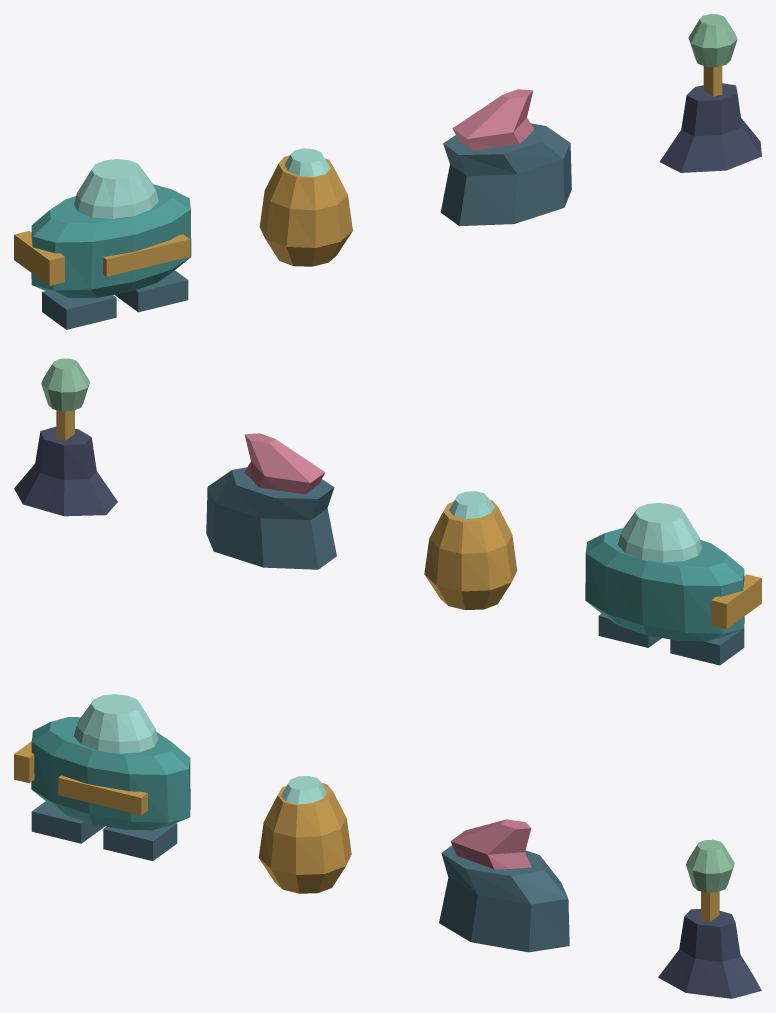
The model's file is fon-freminet-dive-model.obj.
3 renders of one model, top to bottom at view 1: azimuth 30°, elevation 25°; view 2: azimuth 150°, elevation 25°; view 3: azimuth 330°, elevation 25°, orthographic.
Parts seen in each view (by area): view 1: ShallowsToy; view 2: ShallowsToy; view 3: ShallowsToy.
Boxes of the visible parts, box(x1,y1,x2,y2) form: ShallowsToy: box(14, 14, 761, 329); ShallowsToy: box(14, 358, 761, 665); ShallowsToy: box(14, 694, 761, 998).
Bounding box in the file's own units: 5.7 × 1.01 × 0.645.
